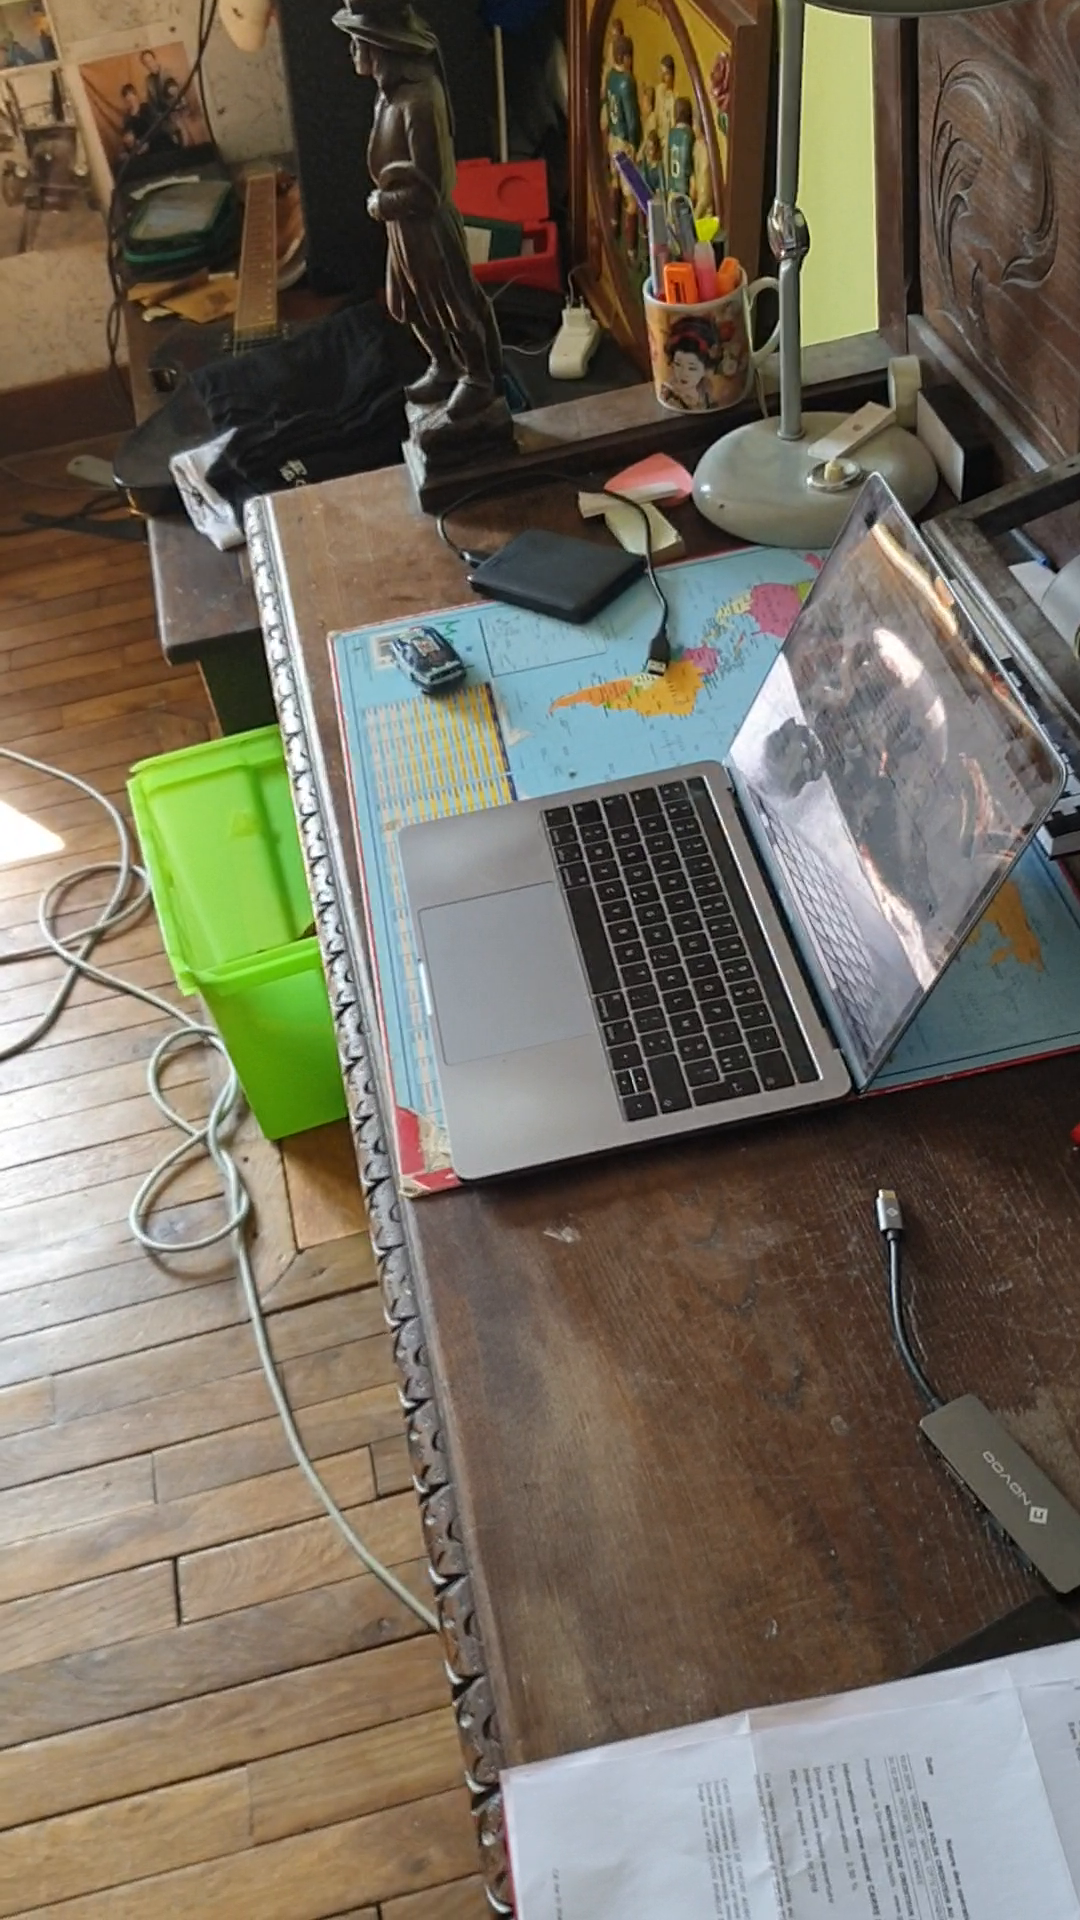cars: (386, 625, 465, 696)
